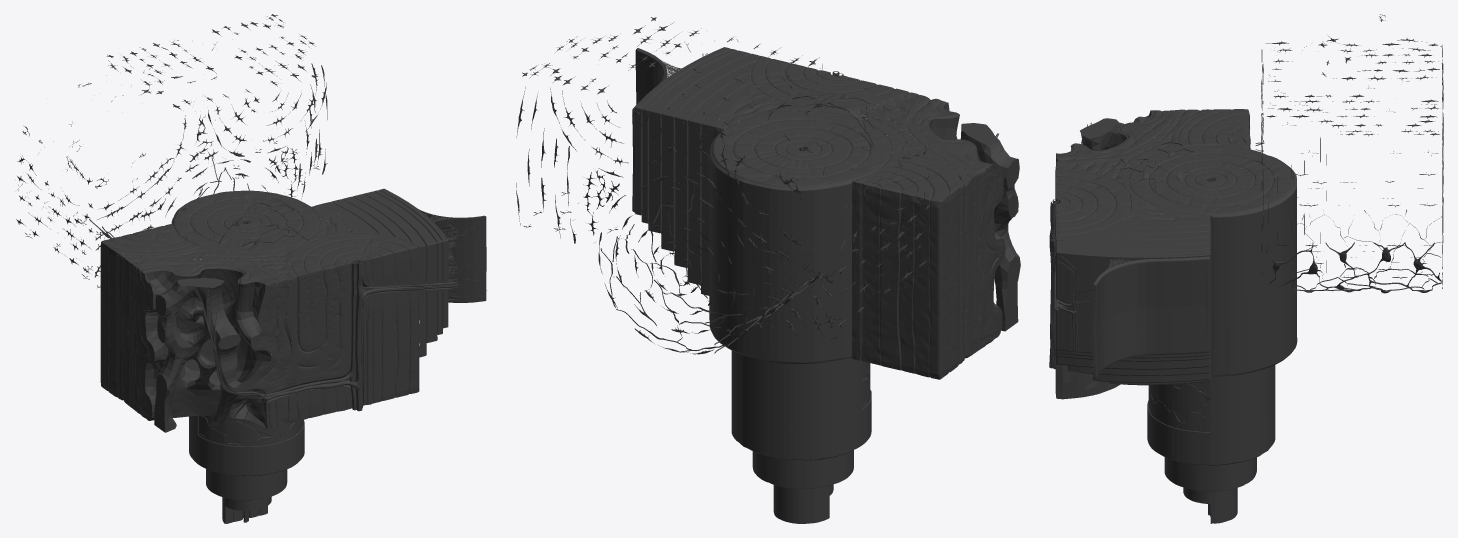
The model's file is sharedassets94.glb.
3 renders of one model, left to right at view 1: azimuth 30°, elevation 25°; view 2: azimuth 150°, elevation 25°; view 3: azimuth 270°, elevation 25°, orthographic. The views are drawn at different scales.
Parts seen in each view (by area): view 1: 0024_Concentric lamellae__303582, 0013_Spongy bone with endosteum__303594, 0020_Lamellae__303585, 0002_Interstitial lamellae__303583, 0005_Circumferential lamellae__303579, 0016_Collagen fibers__303580, 0025_Osteocytes__303589, 0009_Periosteum__303385, 0004_Central _Haversian_ canal__303575, 0015_Central artery__303576, 0001_Perforating _Volkmann_s_ canal__303591, 0022_Perforating _Sharpey_s_ fibers__303386 (+4 smaller); view 2: 0016_Collagen fibers__303580, 0024_Concentric lamellae__303582, 0005_Circumferential lamellae__303579, 0020_Lamellae__303585, 0025_Osteocytes__303589, 0002_Interstitial lamellae__303583, 0013_Spongy bone with endosteum__303594, 0009_Periosteum__303385, 0010_Osteocytes in lacunae__303588; view 3: 0016_Collagen fibers__303580, 0005_Circumferential lamellae__303579, 0020_Lamellae__303585, 0009_Periosteum__303385, 0024_Concentric lamellae__303582, 0025_Osteocytes__303589, 0002_Interstitial lamellae__303583, 0013_Spongy bone with endosteum__303594, 0010_Osteocytes in lacunae__303588, 0015_Central artery__303576.
Part boxes in pixels (x1,y1,x2,y2): 0024_Concentric lamellae__303582: (100, 224, 419, 427); 0013_Spongy bone with endosteum__303594: (143, 268, 272, 432); 0020_Lamellae__303585: (173, 190, 320, 523); 0002_Interstitial lamellae__303583: (117, 204, 364, 422); 0005_Circumferential lamellae__303579: (320, 188, 448, 357); 0016_Collagen fibers__303580: (171, 203, 310, 523); 0025_Osteocytes__303589: (16, 14, 327, 287); 0009_Periosteum__303385: (419, 209, 486, 302); 0004_Central _Haversian_ canal__303575: (242, 220, 366, 519); 0015_Central artery__303576: (355, 261, 363, 411); 0001_Perforating _Volkmann_s_ canal__303591: (263, 281, 448, 403); 0022_Perforating _Sharpey_s_ fibers__303386: (424, 213, 458, 302); 0016_Collagen fibers__303580: (709, 131, 871, 523); 0024_Concentric lamellae__303582: (750, 56, 1004, 379); 0005_Circumferential lamellae__303579: (635, 47, 759, 295); 0020_Lamellae__303585: (711, 110, 892, 488); 0025_Osteocytes__303589: (516, 17, 930, 354); 0002_Interstitial lamellae__303583: (714, 89, 977, 364); 0013_Spongy bone with endosteum__303594: (927, 102, 1020, 337); 0009_Periosteum__303385: (632, 48, 667, 212); 0010_Osteocytes in lacunae__303588: (726, 92, 875, 174); 0016_Collagen fibers__303580: (1147, 162, 1297, 523); 0005_Circumferential lamellae__303579: (1056, 219, 1210, 384); 0020_Lamellae__303585: (1128, 145, 1294, 491); 0009_Periosteum__303385: (1093, 256, 1210, 378); 0024_Concentric lamellae__303582: (1055, 109, 1250, 399); 0025_Osteocytes__303589: (1261, 14, 1443, 293); 0002_Interstitial lamellae__303583: (1055, 109, 1211, 385); 0013_Spongy bone with endosteum__303594: (1056, 110, 1153, 153); 0010_Osteocytes in lacunae__303588: (1118, 142, 1264, 203); 0015_Central artery__303576: (1049, 201, 1056, 368).
Bounding box in the file's own units: 0.3035 × 0.3674 × 0.2909.
Materials: 1 (1 with a texture image).
